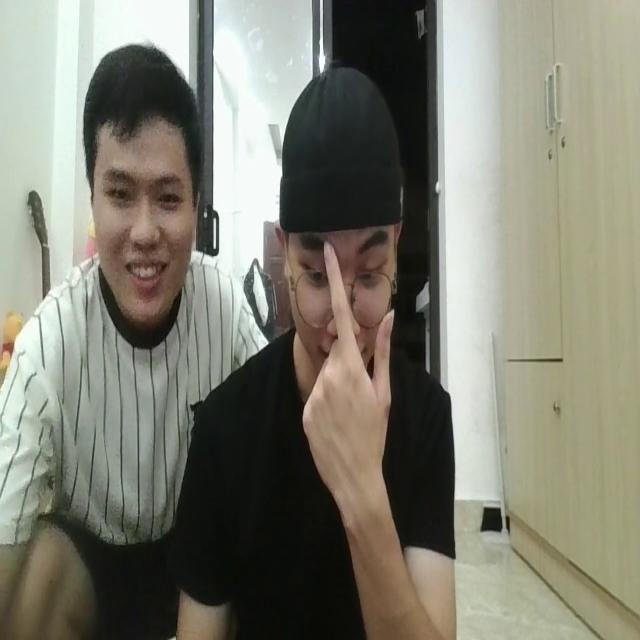extra_person: (1, 36, 202, 578)
student: (196, 64, 460, 640)
